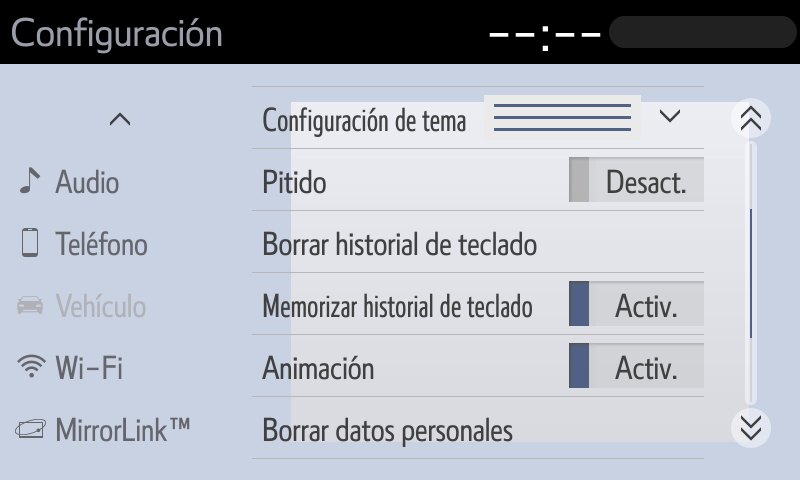touchPart: (249, 76, 705, 154), (245, 143, 710, 219), (247, 330, 707, 404), (246, 207, 708, 279), (247, 268, 707, 340), (251, 396, 707, 463), (17, 219, 178, 271), (12, 409, 199, 452), (13, 348, 153, 392), (21, 163, 126, 204), (729, 406, 781, 451), (732, 92, 774, 142), (104, 106, 132, 129)
untouchPart: (473, 10, 796, 55), (8, 10, 233, 54), (21, 288, 147, 323)
